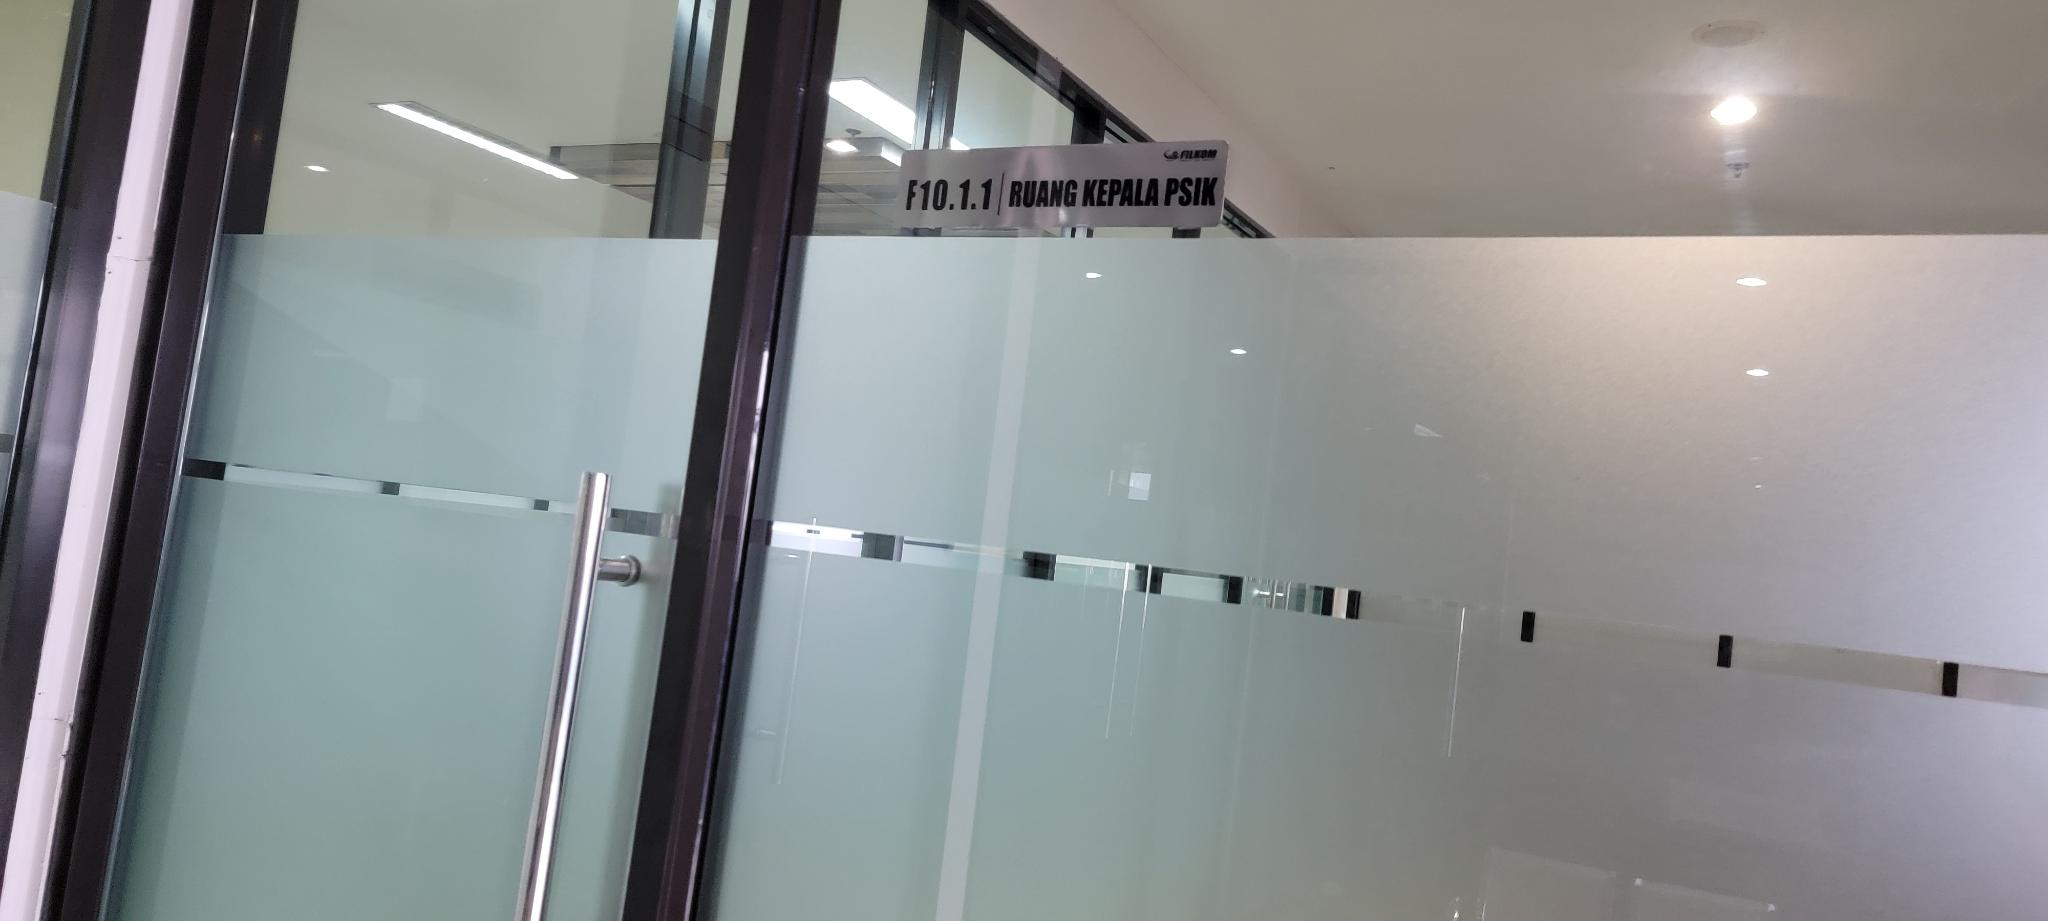plate: (897, 140, 1228, 230)
